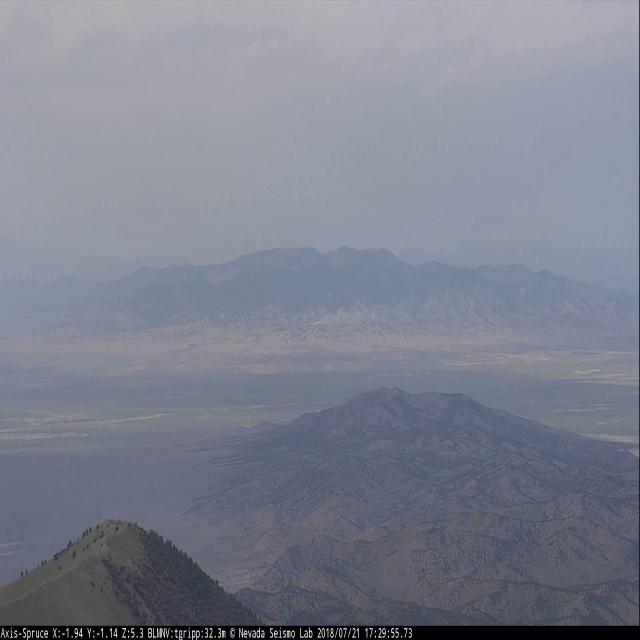smoke: (310, 290, 462, 332)
